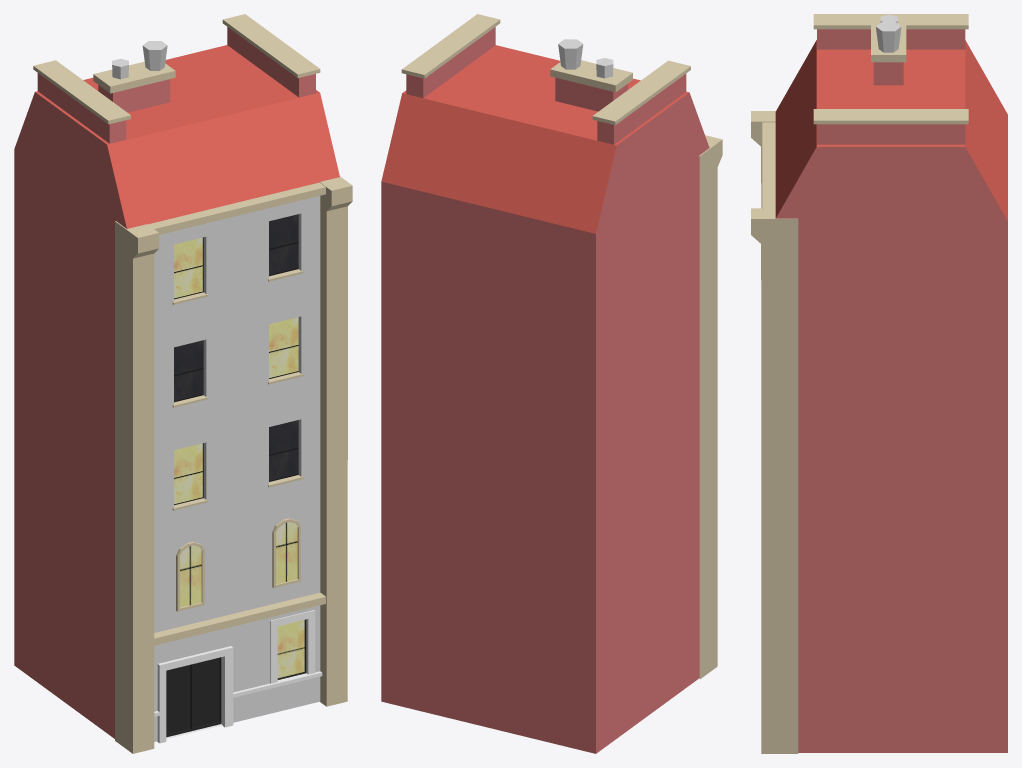
Rendered from Bloc_Place_01.fbx.
3 views of the same model, side by side, from view 1: azimuth 30°, elevation 25°; view 2: azimuth 150°, elevation 25°; view 3: azimuth 270°, elevation 25° (orthographic). The views are drawn at different scales.
Visible parts, largest first — view 1: Bloc_Place_01; view 2: Bloc_Place_01; view 3: Bloc_Place_01.
Part boxes in pixels (left/top/right/bottom): Bloc_Place_01: left=14, top=14, right=352, bottom=753; Bloc_Place_01: left=381, top=14, right=722, bottom=753; Bloc_Place_01: left=751, top=14, right=1007, bottom=753.
Size of the model in its own units: 659 by 1874 by 655.
